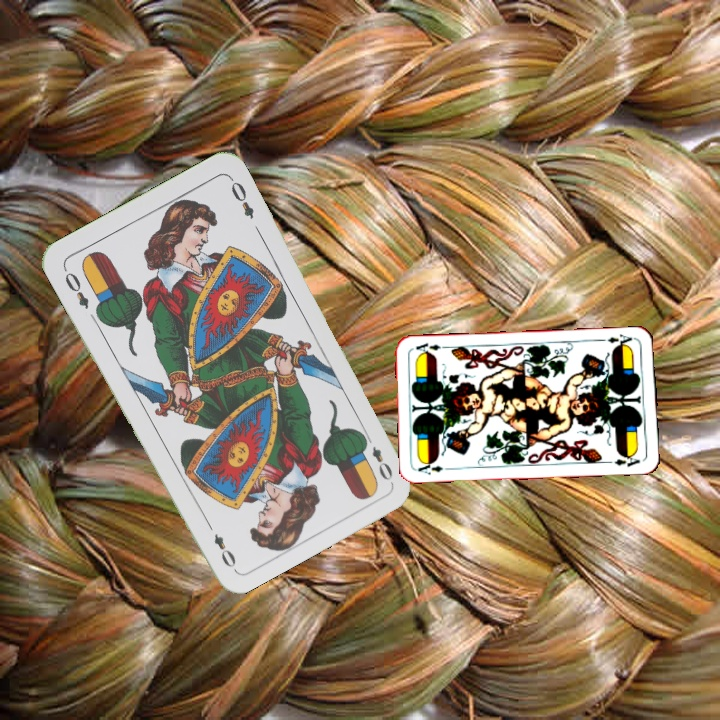EA: (414, 458, 454, 478), (603, 330, 638, 350)
EO: (360, 430, 396, 484), (59, 264, 92, 312)
